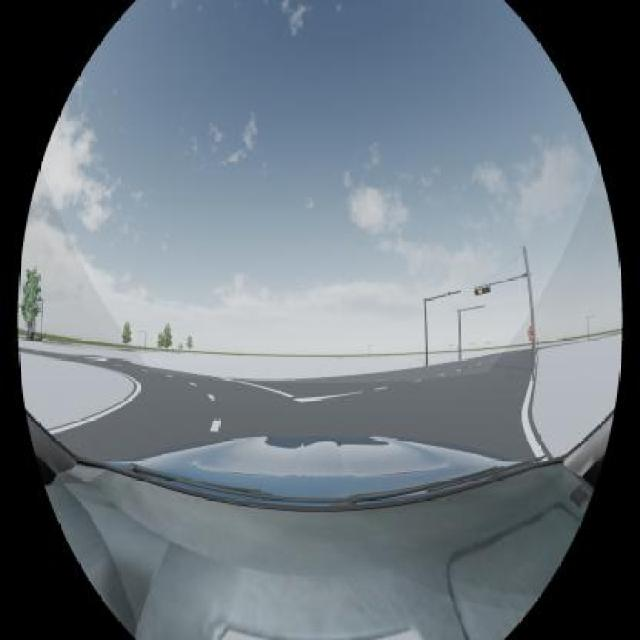forb_speed_over_100: (528, 325, 535, 341)
